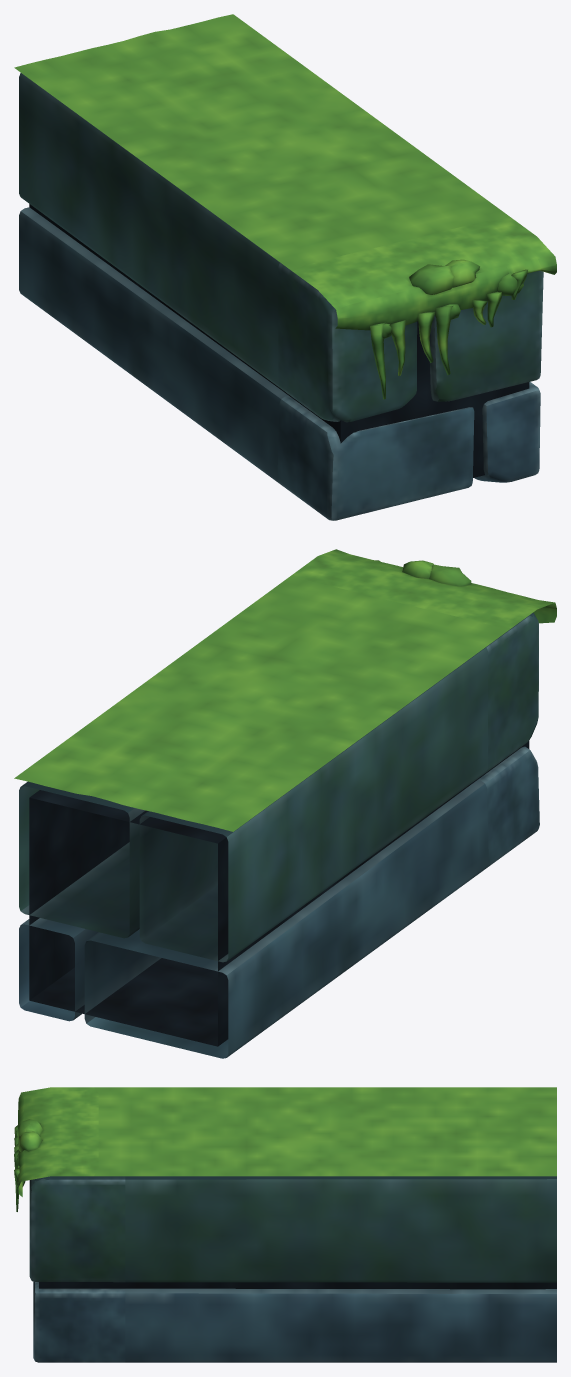
File: ENV_StoneTop_B.fbx
The picture shows the model from 3 angles, top to bottom: view 1: azimuth 30°, elevation 25°; view 2: azimuth 150°, elevation 25°; view 3: azimuth 270°, elevation 25°; orthographic projection. The views are drawn at different scales.
Visible parts, largest first — view 1: ENV_StoneTop_B; view 2: ENV_StoneTop_B; view 3: ENV_StoneTop_B.
Part boxes in pixels (x1,y1,x2,y2): ENV_StoneTop_B: (14,14,556,520); ENV_StoneTop_B: (14,549,556,1058); ENV_StoneTop_B: (14,1087,556,1362).
Bounding box in the file's own units: 1 × 1.04 × 2.58.
